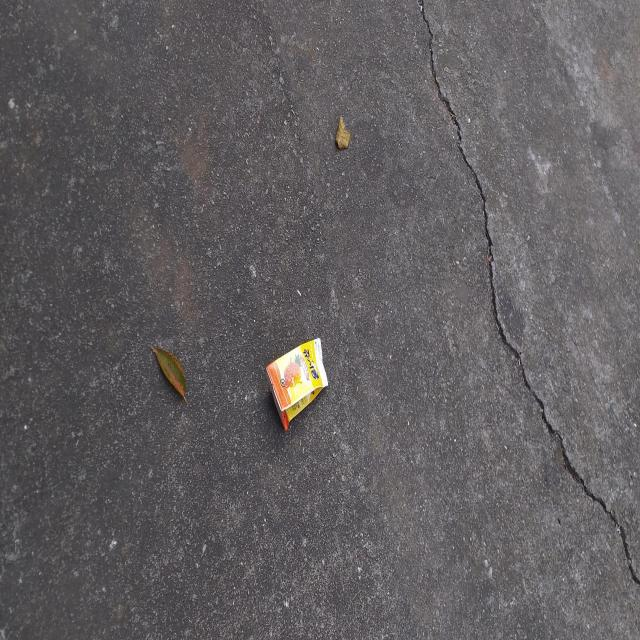paperpack: (266, 338, 328, 430)
